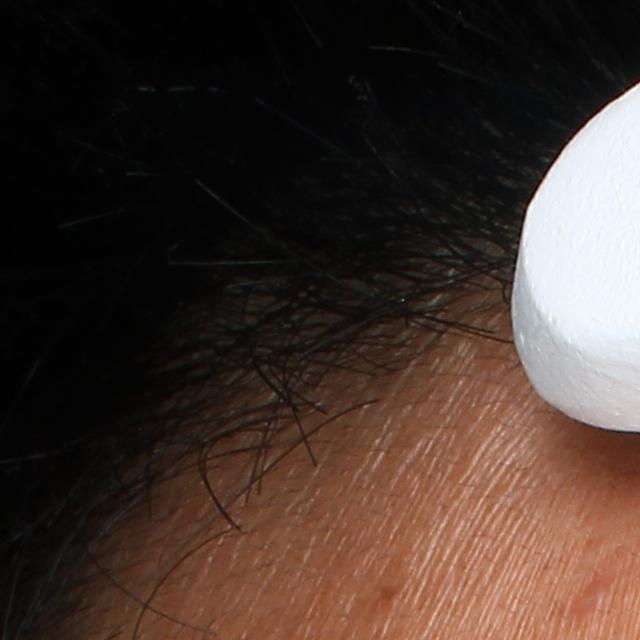papule: (574, 577, 619, 617)
